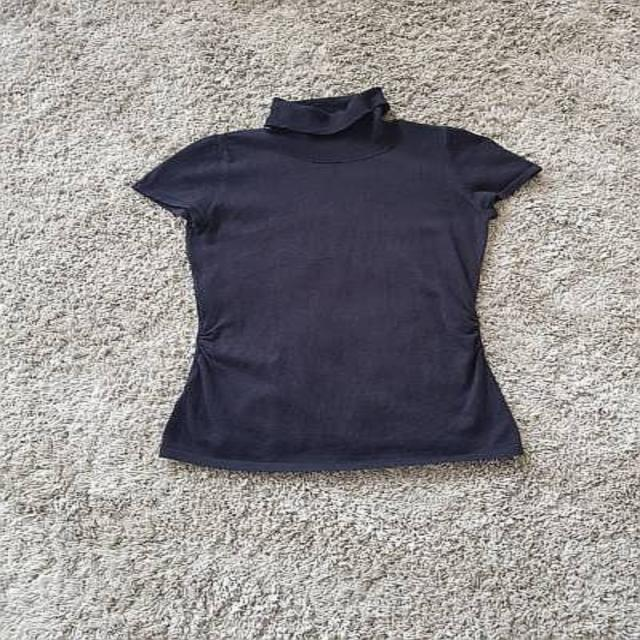T_SHIRT: (114, 78, 569, 485)
